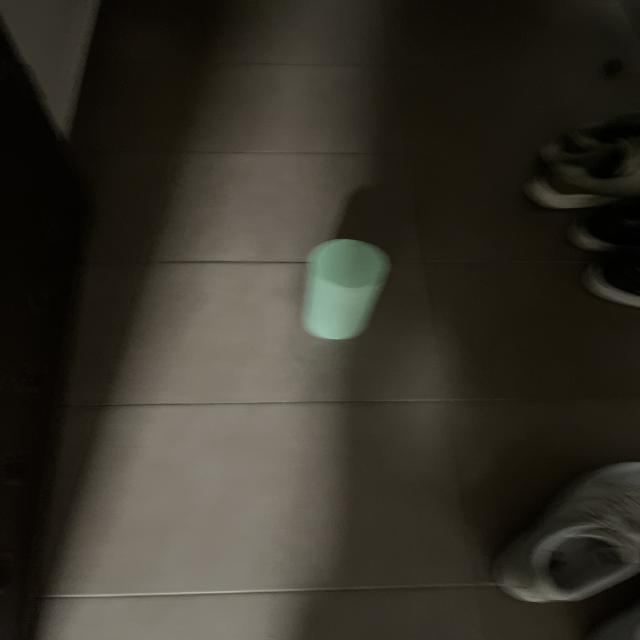meta: (302, 239, 390, 340)
